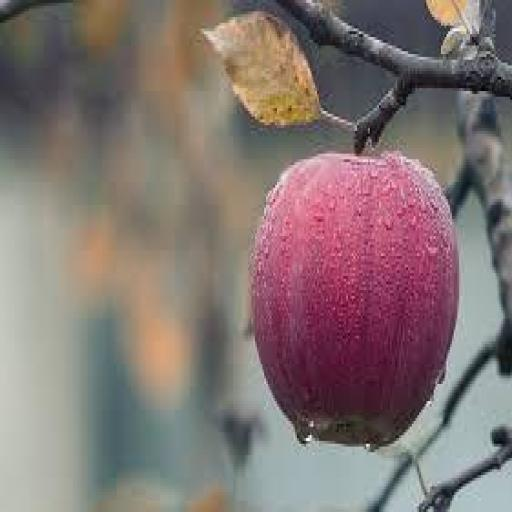apple: (252, 154, 459, 446)
